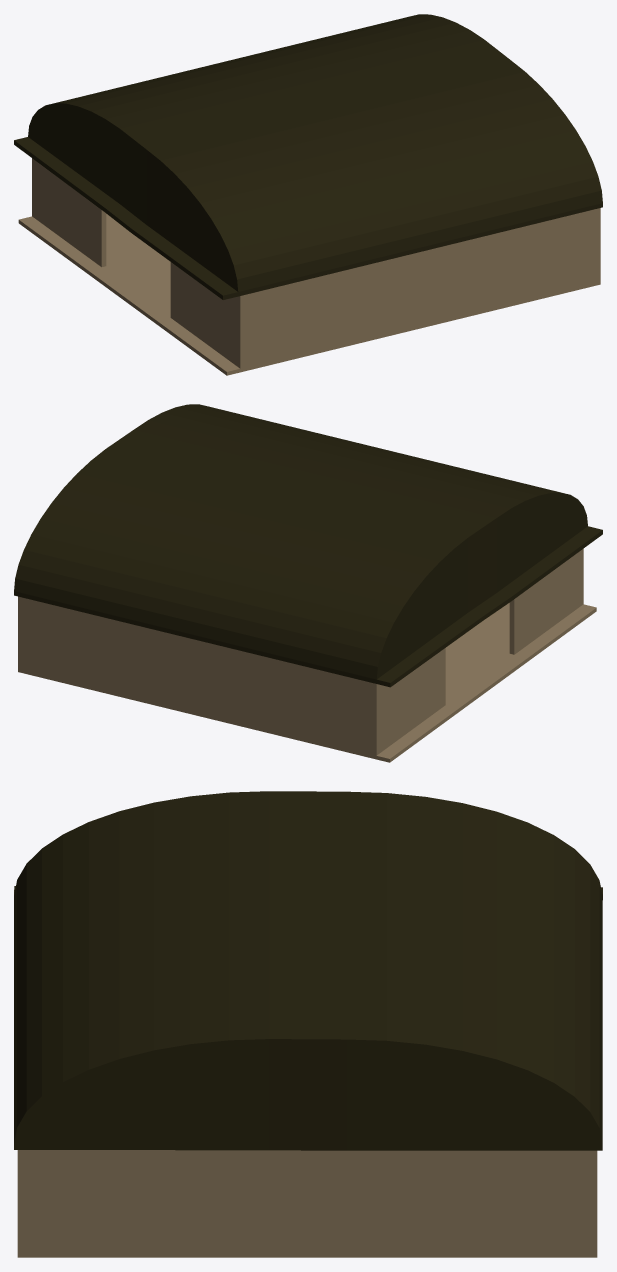
Rendered from HangarWplane.fbx.
3 renders of one model, top to bottom at view 1: azimuth 30°, elevation 25°; view 2: azimuth 150°, elevation 25°; view 3: azimuth 270°, elevation 25°, orthographic. The views are drawn at different scales.
Visible parts, largest first — view 1: Cube.001, Cube; view 2: Cube.001, Cube; view 3: Cube.001, Cube.
Boxes of the visible parts, x1,y1,x2,y2 form: Cube.001: [14, 14, 602, 299]; Cube: [18, 158, 600, 375]; Cube.001: [14, 404, 602, 687]; Cube: [18, 549, 596, 762]; Cube.001: [14, 791, 602, 1150]; Cube: [17, 1150, 597, 1257].
Bounding box in the file's own units: 1057 × 418 × 1016.
